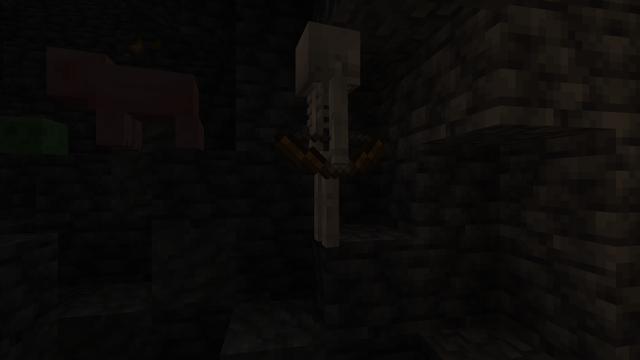cochons: (83, 56, 200, 152)
slimes: (5, 114, 68, 155)
squelettes: (293, 20, 364, 252)
